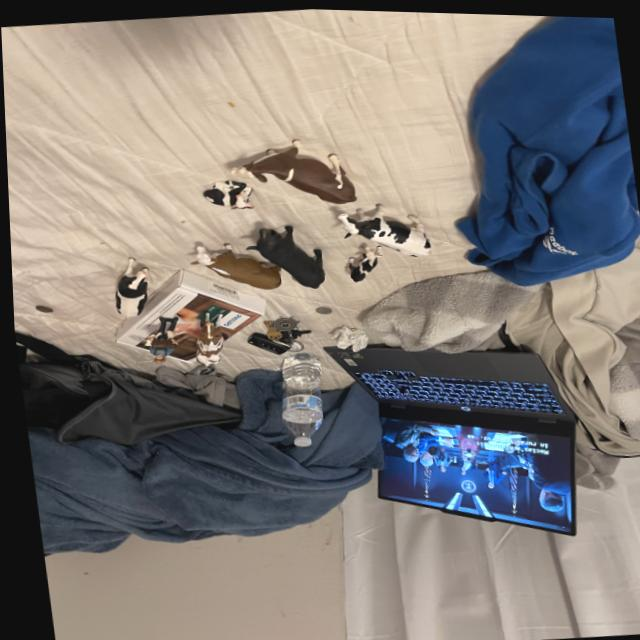cow: (234, 121, 367, 214), (243, 210, 335, 297), (331, 190, 436, 258), (188, 232, 285, 294), (104, 255, 156, 321), (187, 308, 227, 368), (337, 234, 384, 283), (200, 177, 251, 209), (138, 326, 175, 356)
person: (145, 345, 169, 365)
